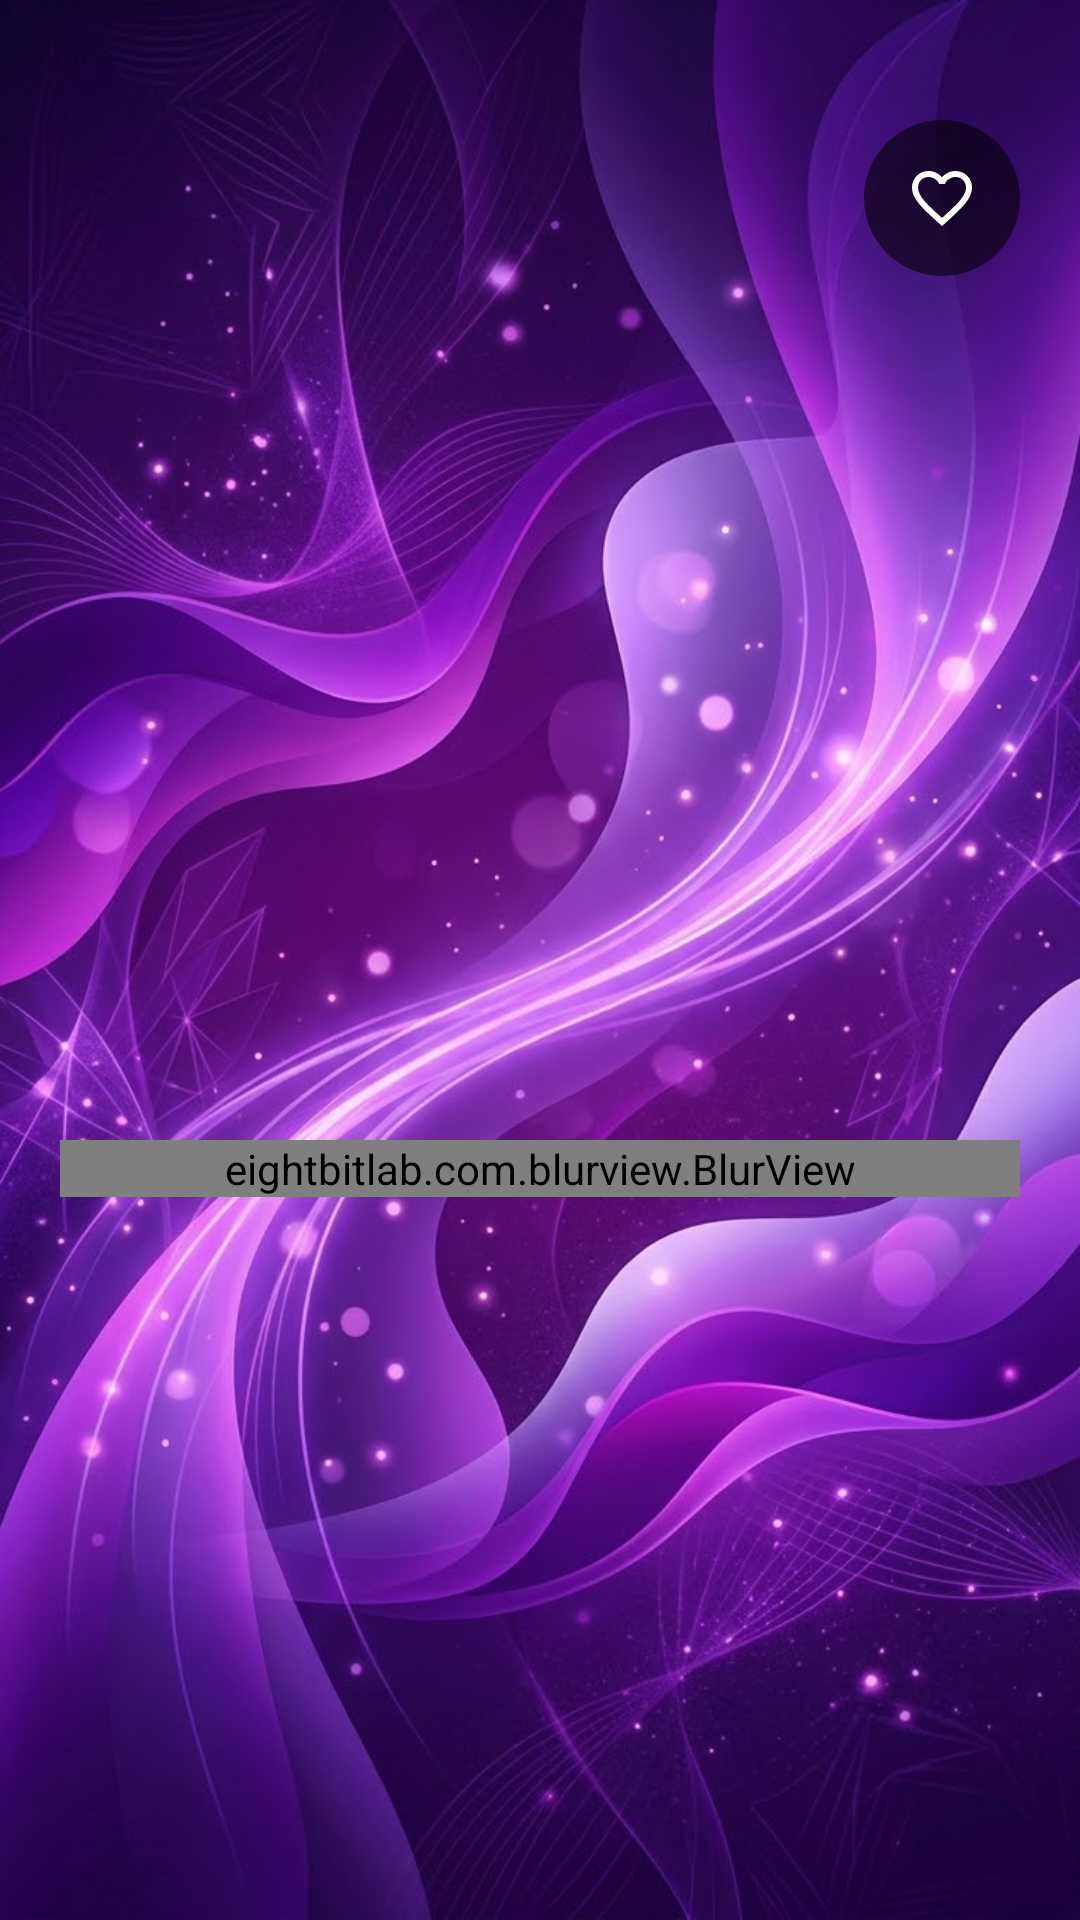

Screen size 1080px×1920px. Icon name, then its center in pixels as (x=x, y=y):
favorite border: (x=942, y=198)
